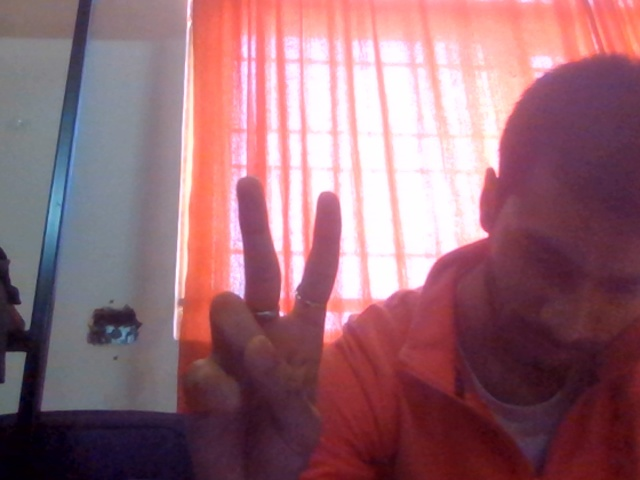V: (143, 152, 378, 480)
